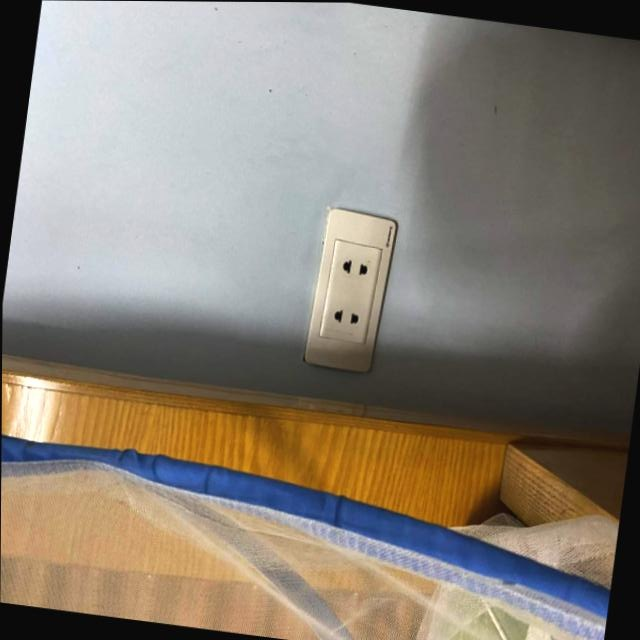outlet: (301, 207, 399, 376)
